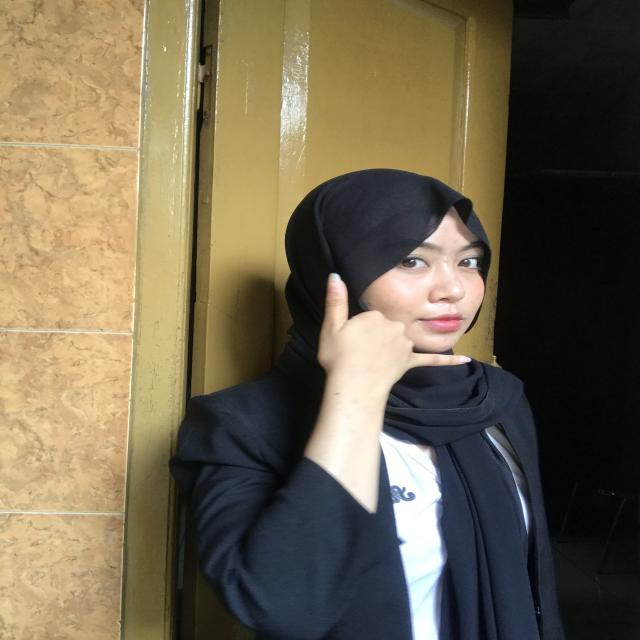telpon: (278, 251, 504, 375)
